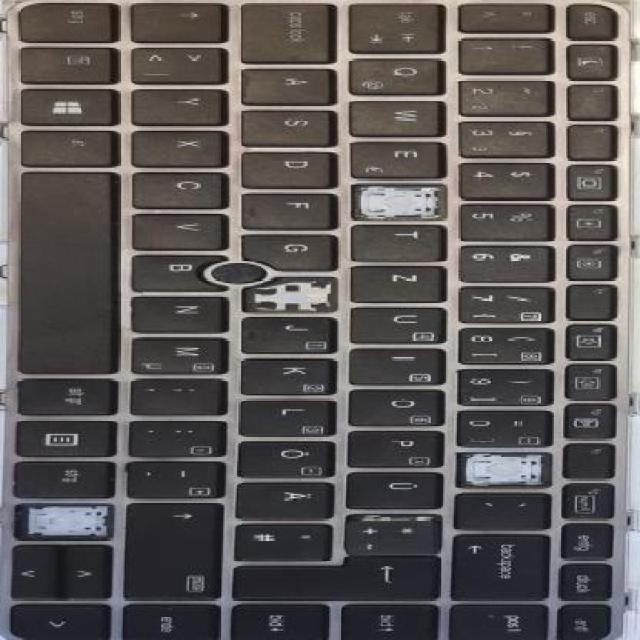Keyboard problems: (457, 452, 551, 486), (245, 278, 335, 311), (20, 505, 111, 537), (355, 186, 445, 218)
